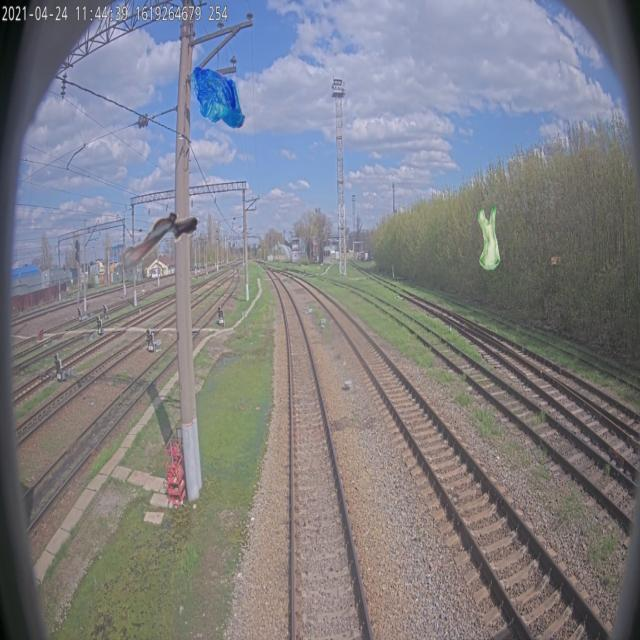floating object: (123, 207, 199, 271)
plastic bag: (190, 64, 246, 128), (478, 206, 500, 270)
